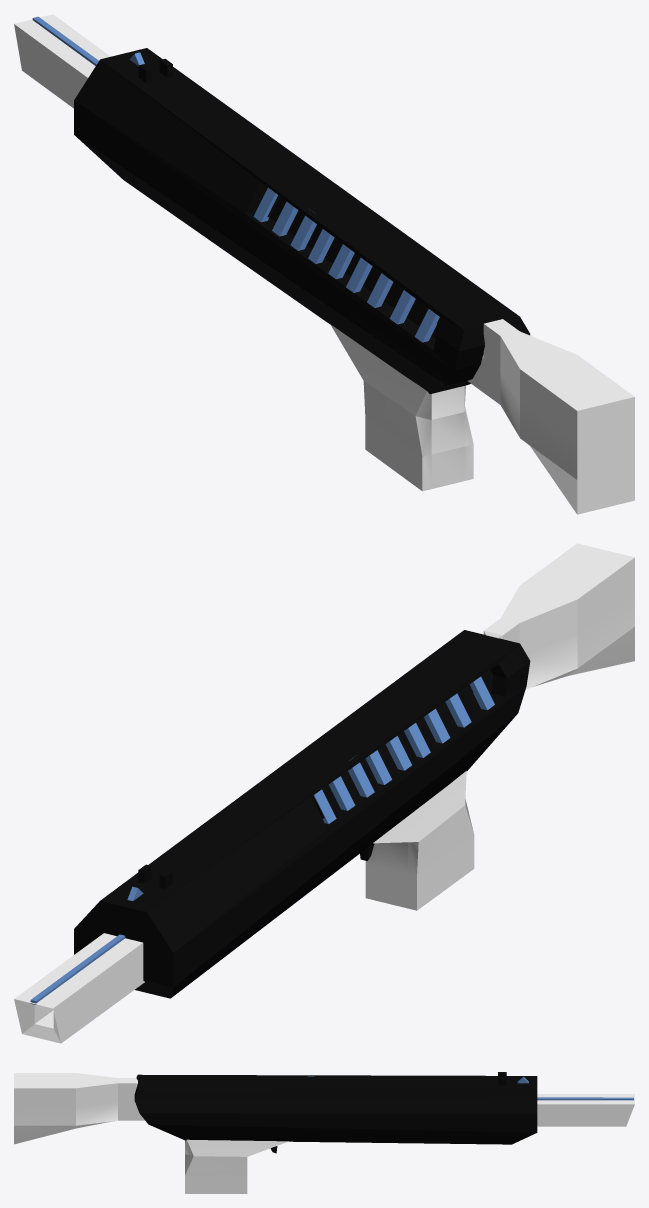
The model's file is rilfeWeapon.fbx.
3 renders of one model, top to bottom at view 1: azimuth 30°, elevation 25°; view 2: azimuth 150°, elevation 25°; view 3: azimuth 270°, elevation 25°, orthographic. The views are drawn at different scales.
Visible parts, largest first — view 1: weaponRifle; view 2: weaponRifle; view 3: weaponRifle.
Boxes of the visible parts, x1,y1,x2,y2 form: weaponRifle: [14, 14, 634, 514]; weaponRifle: [14, 543, 634, 1043]; weaponRifle: [14, 1072, 634, 1193].
Size of the model in its own units: 0.1 by 0.1987 by 1.
